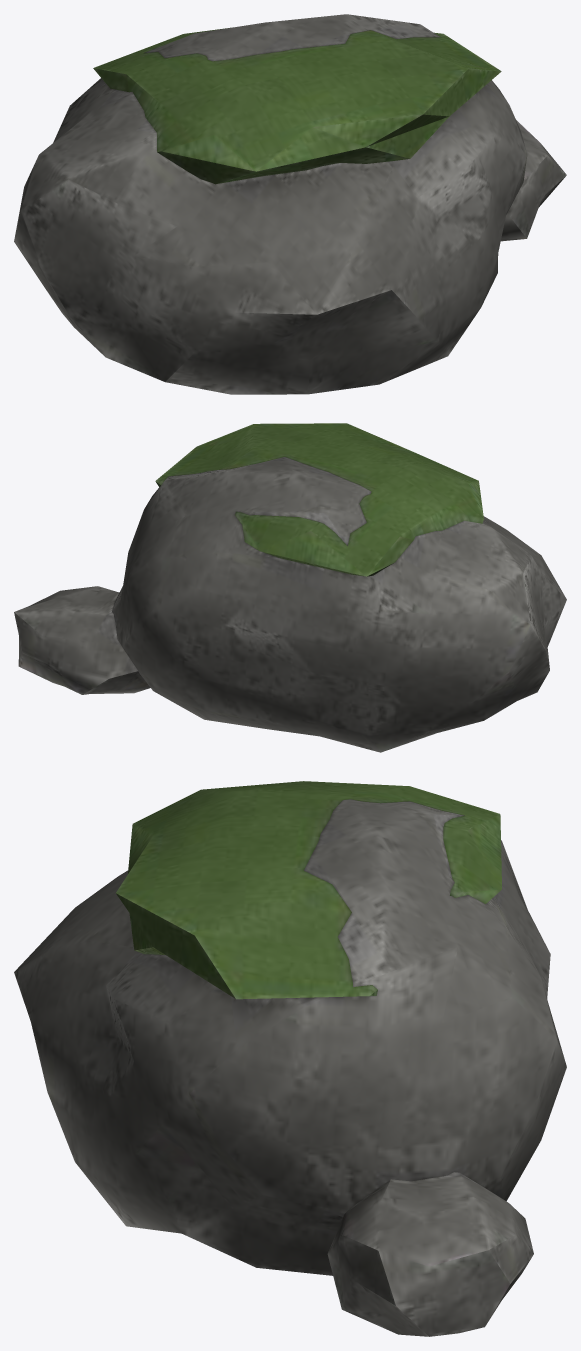
File: pedra_musgo.glb
3 renders of one model, top to bottom at view 1: azimuth 30°, elevation 25°; view 2: azimuth 150°, elevation 25°; view 3: azimuth 270°, elevation 25°, orthographic. The views are drawn at different scales.
Parts seen in each view (by area): view 1: pedra_musgo; view 2: pedra_musgo; view 3: pedra_musgo.
Part boxes in pixels (x1,y1,x2,y2): pedra_musgo: [14, 14, 566, 394]; pedra_musgo: [14, 423, 566, 752]; pedra_musgo: [14, 781, 566, 1336].
Size of the model in its own units: 2.27 by 1.08 by 1.54.
1 material, 1 textured.
